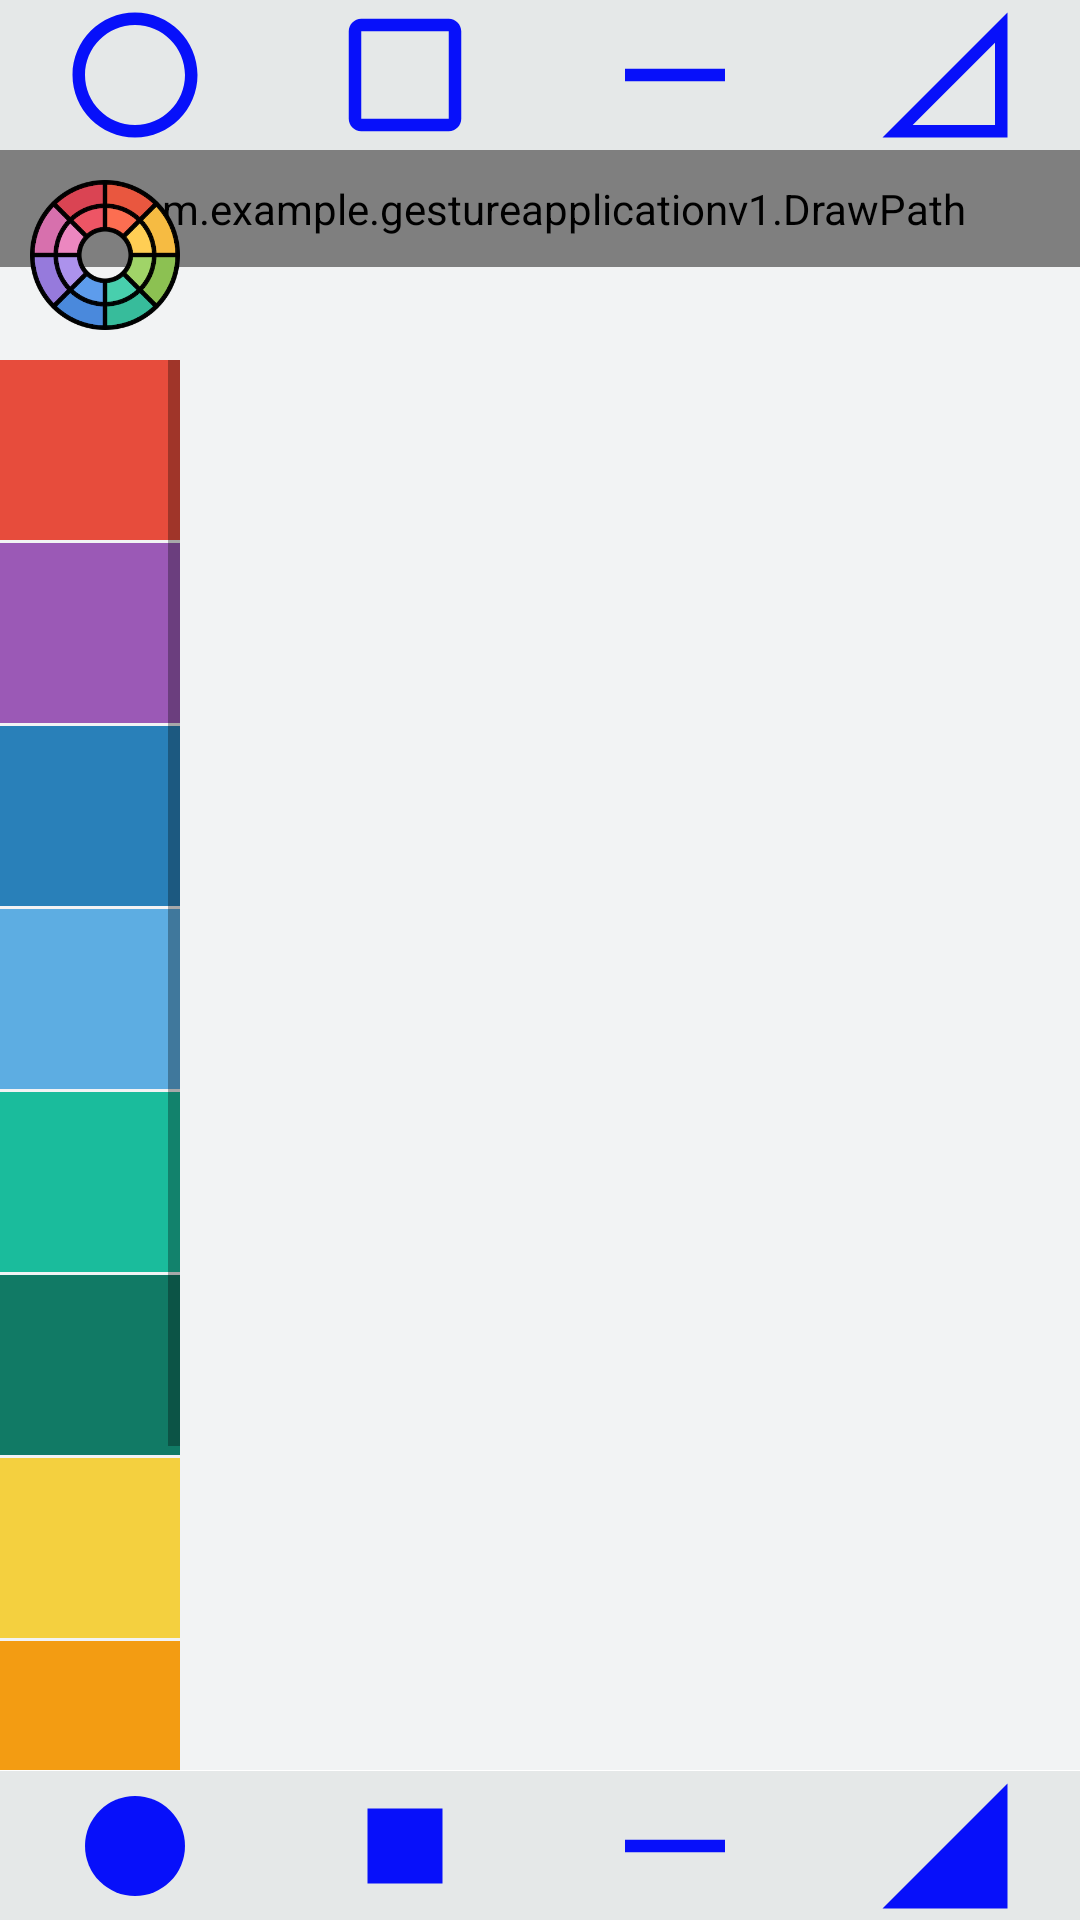

Screen size 1080w x 1920h. Icon name, then its box in pixels as Rect(x1, y1, x2, y2):
circlefilled: Rect(85, 1796, 185, 1896)
square: Rect(348, 18, 462, 132)
squarefilled: Rect(367, 1808, 443, 1884)
triangle: Rect(882, 12, 1008, 138)
trianglefilled: Rect(882, 1783, 1008, 1909)
